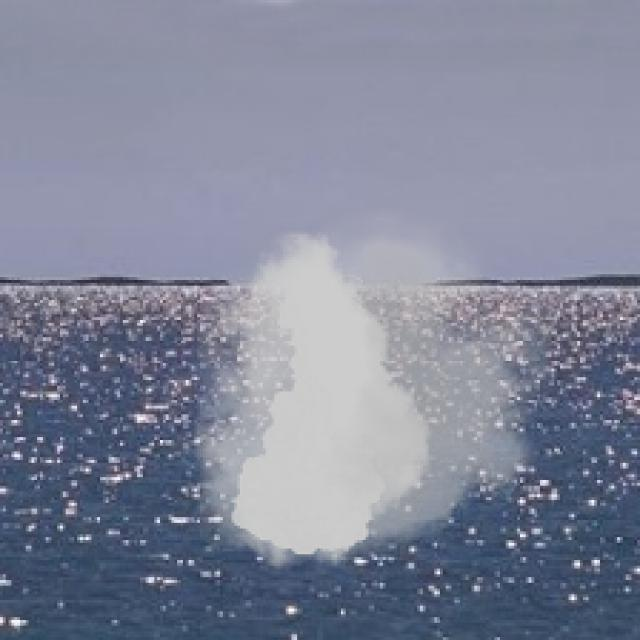smoke: (163, 209, 577, 580)
